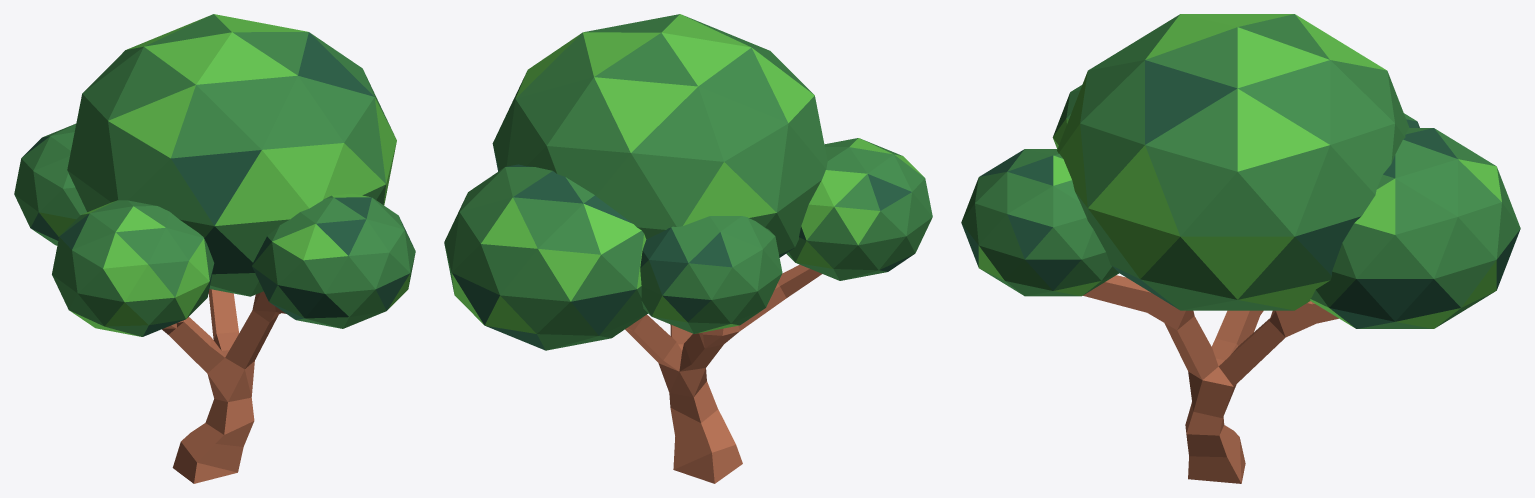
File: Tree_02.fbx
The picture shows the model from 3 angles, left to right: view 1: azimuth 30°, elevation 25°; view 2: azimuth 150°, elevation 25°; view 3: azimuth 270°, elevation 25°; orthographic projection. The views are drawn at different scales.
Visible parts, largest first — view 1: Tree_02; view 2: Tree_02; view 3: Tree_02.
Boxes of the visible parts, box(x1,y1,x2,y2) form: Tree_02: box(14, 14, 415, 483); Tree_02: box(444, 14, 932, 483); Tree_02: box(961, 14, 1520, 483).
Bounding box in the file's own units: 480 × 559 × 608.
